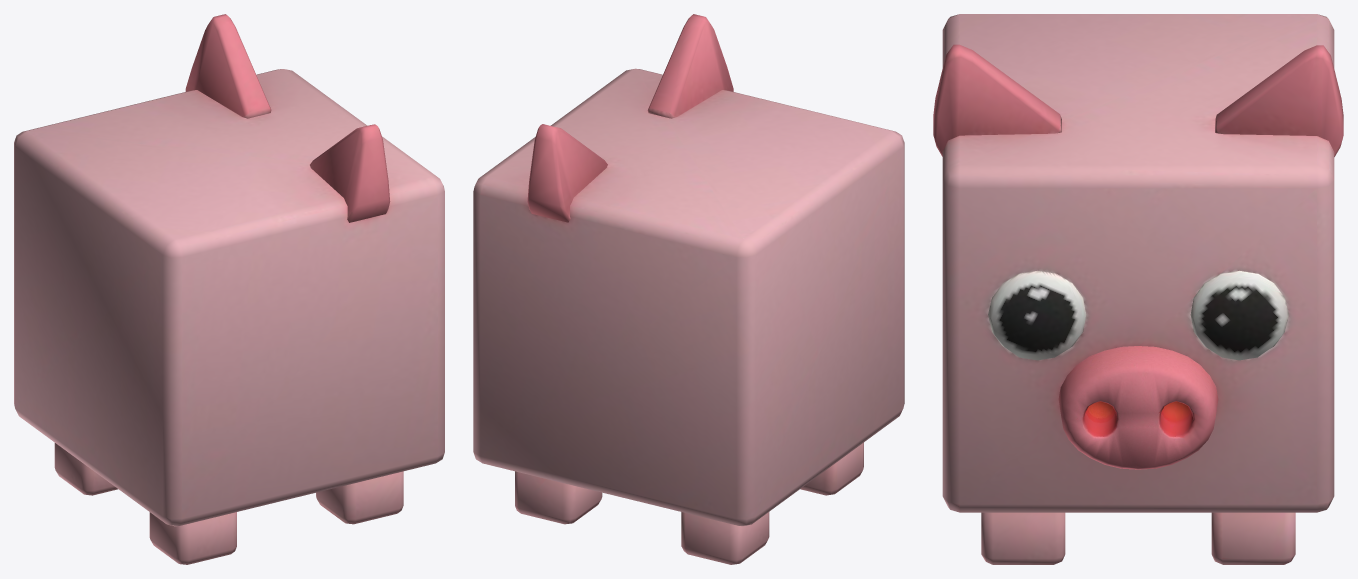
The model's file is tripo_convert_b9eebdf3-0014-406c-a0dd-050fbf161b2d.fbx.
The picture shows the model from 3 angles, left to right: view 1: azimuth 30°, elevation 25°; view 2: azimuth 150°, elevation 25°; view 3: azimuth 270°, elevation 25°; orthographic projection. The views are drawn at different scales.
Visible parts, largest first — view 1: tripo_node_b9eebdf3; view 2: tripo_node_b9eebdf3; view 3: tripo_node_b9eebdf3.
Boxes of the visible parts, bbox=[...] form: tripo_node_b9eebdf3: bbox=[14, 14, 444, 564]; tripo_node_b9eebdf3: bbox=[473, 14, 904, 564]; tripo_node_b9eebdf3: bbox=[933, 14, 1343, 564].
Size of the model in its own units: 81.05 by 75.2 by 99.8.
